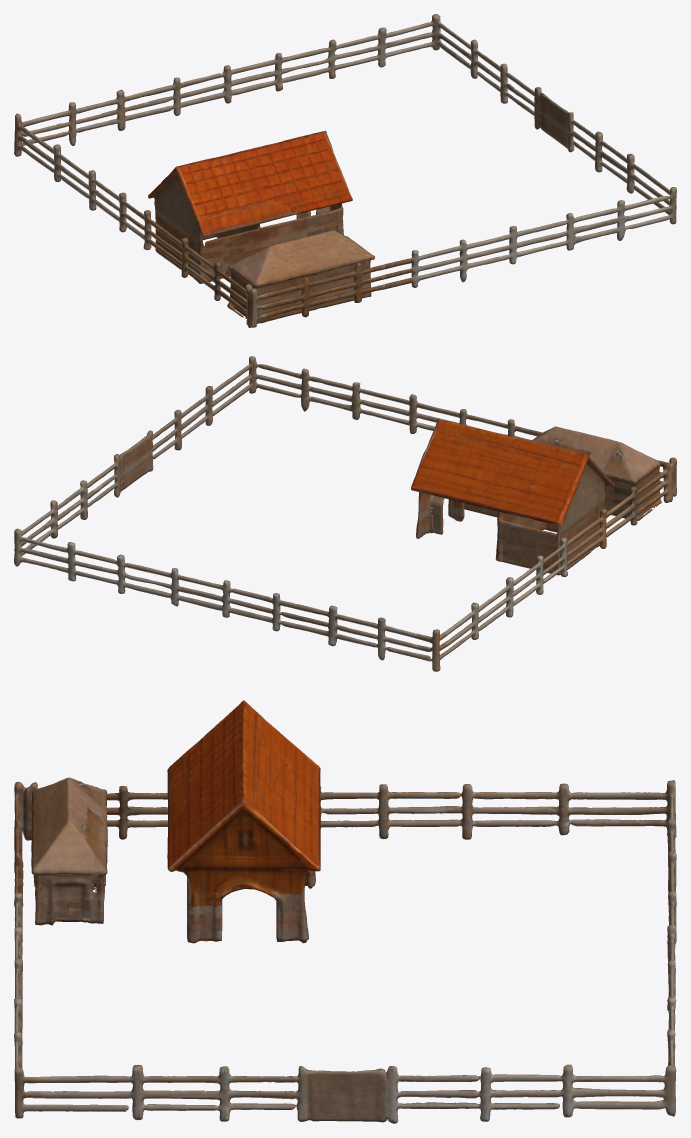
The model's file is avicola.glb.
3 renders of one model, top to bottom at view 1: azimuth 30°, elevation 25°; view 2: azimuth 150°, elevation 25°; view 3: azimuth 270°, elevation 25°, orthographic. The views are drawn at different scales.
Size of the model in its own units: 2 by 0.4807 by 1.95.
1 material, 1 textured.
